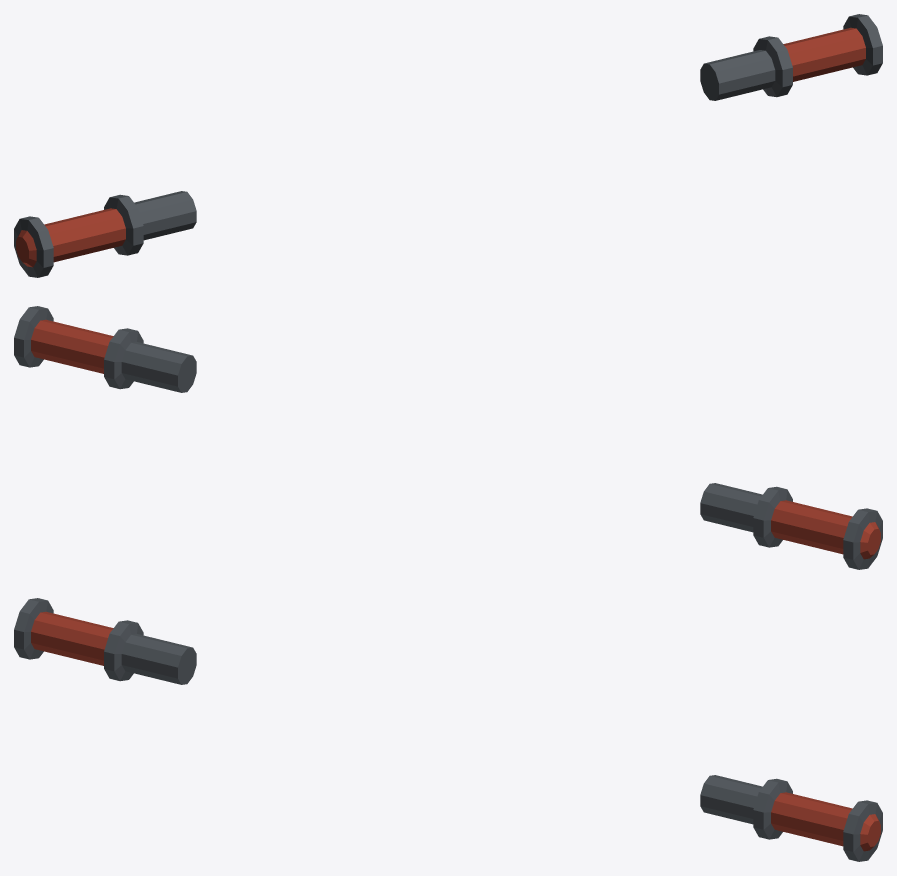
The model's file is Personal_Vehicle_02_Footrest_Red.fbx.
The picture shows the model from 3 angles, top to bottom: view 1: azimuth 30°, elevation 25°; view 2: azimuth 150°, elevation 25°; view 3: azimuth 330°, elevation 25°; orthographic projection.
Visible parts, largest first — view 1: Personal_Vehicle_02_Footrest_Red; view 2: Personal_Vehicle_02_Footrest_Red; view 3: Personal_Vehicle_02_Footrest_Red.
Part boxes in pixels (x1,y1,x2,y2): Personal_Vehicle_02_Footrest_Red: (14,14,882,277); Personal_Vehicle_02_Footrest_Red: (14,306,882,569); Personal_Vehicle_02_Footrest_Red: (14,598,882,861).
Bounding box in the file's own units: 131 × 8.31 × 7.91.
1 material, 1 textured.
